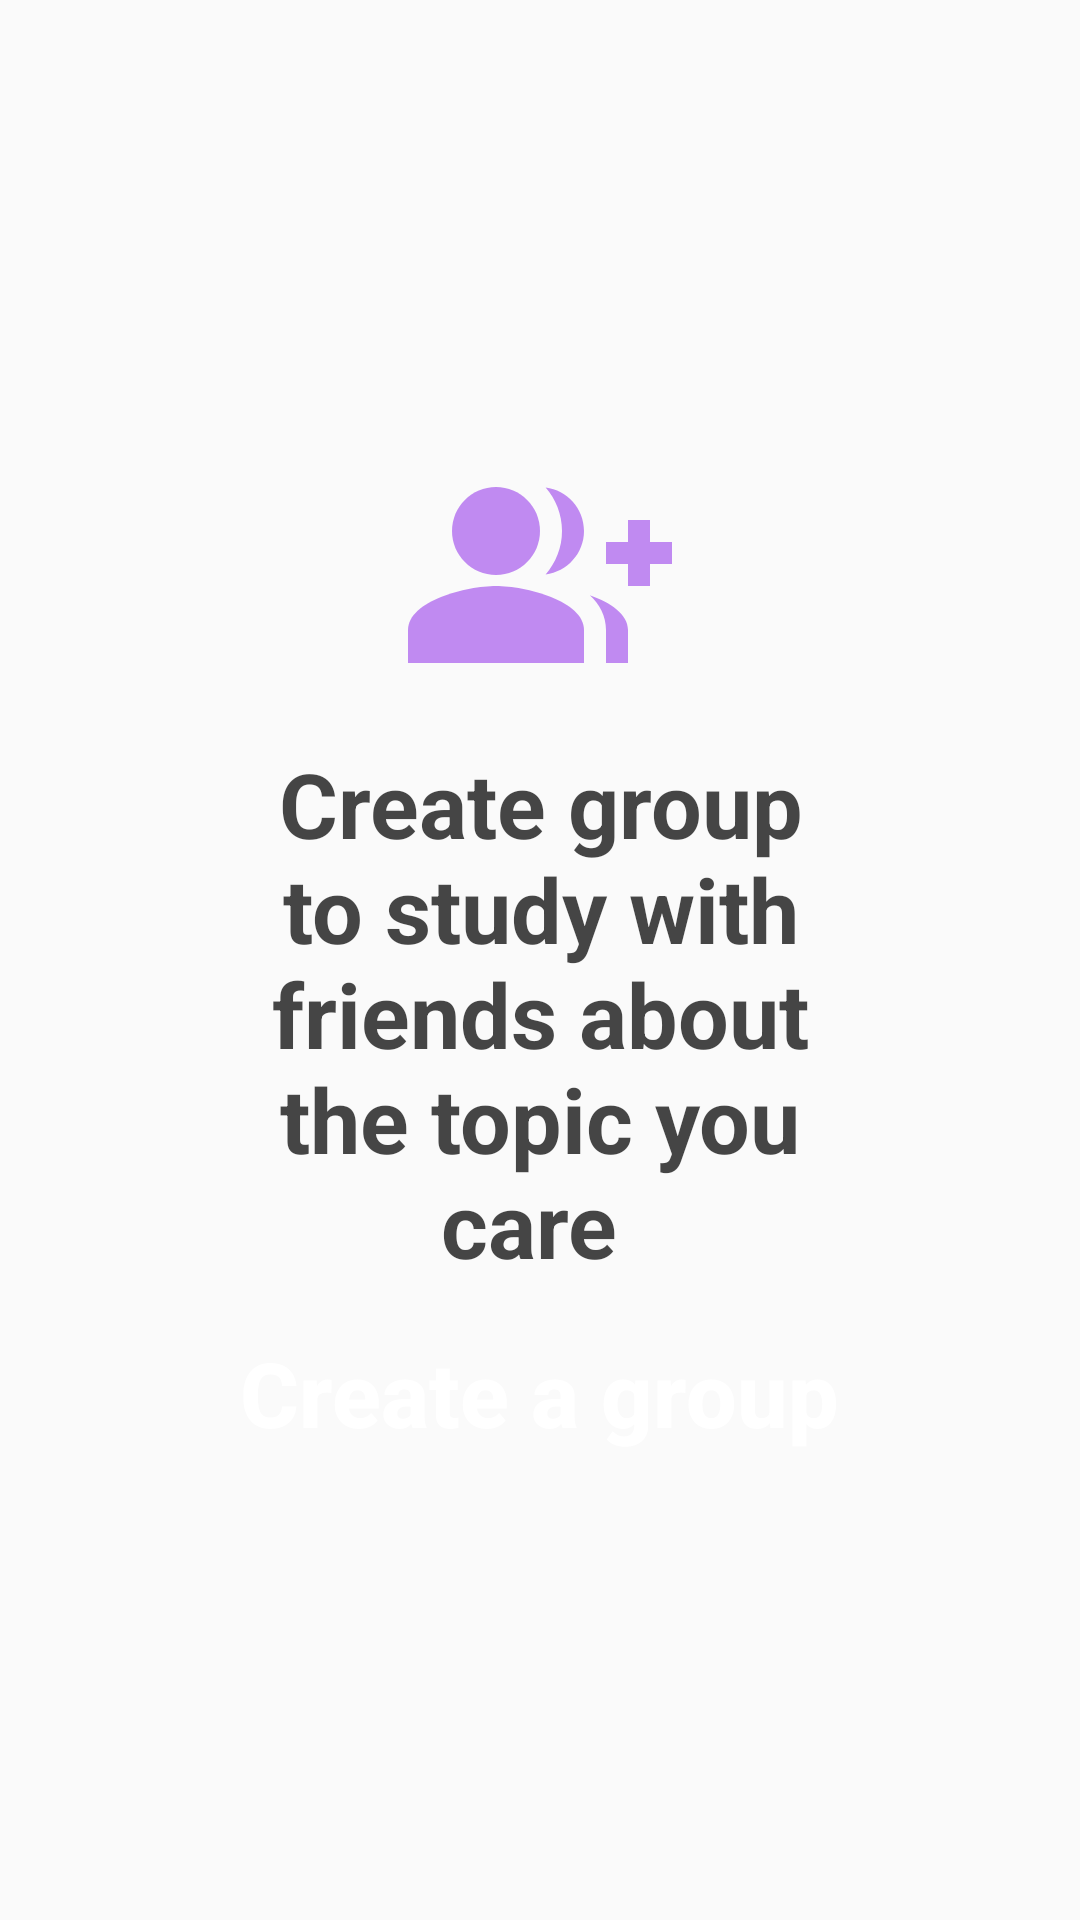

Where to tap for icons on this 1080x1920 app screen, as [x,y]:
group add: [540,575]
